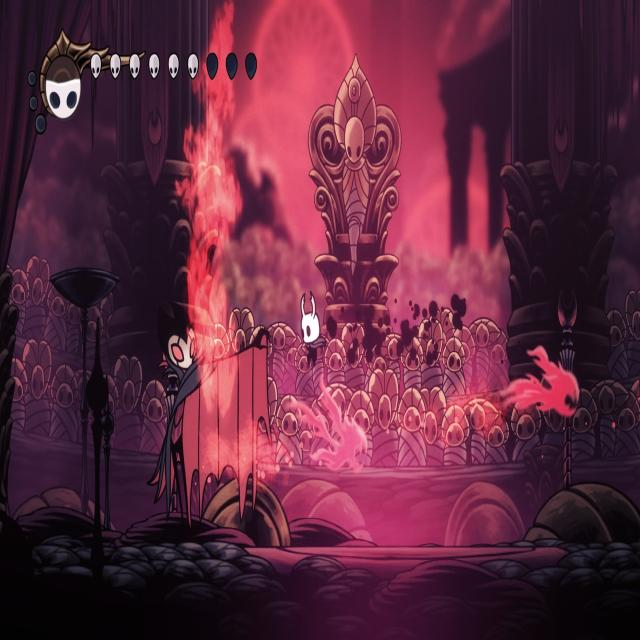Fire Bat: (289, 379, 369, 471), (509, 344, 582, 420)
Open Cloak: (142, 297, 276, 543)
Player: (298, 286, 330, 372)
